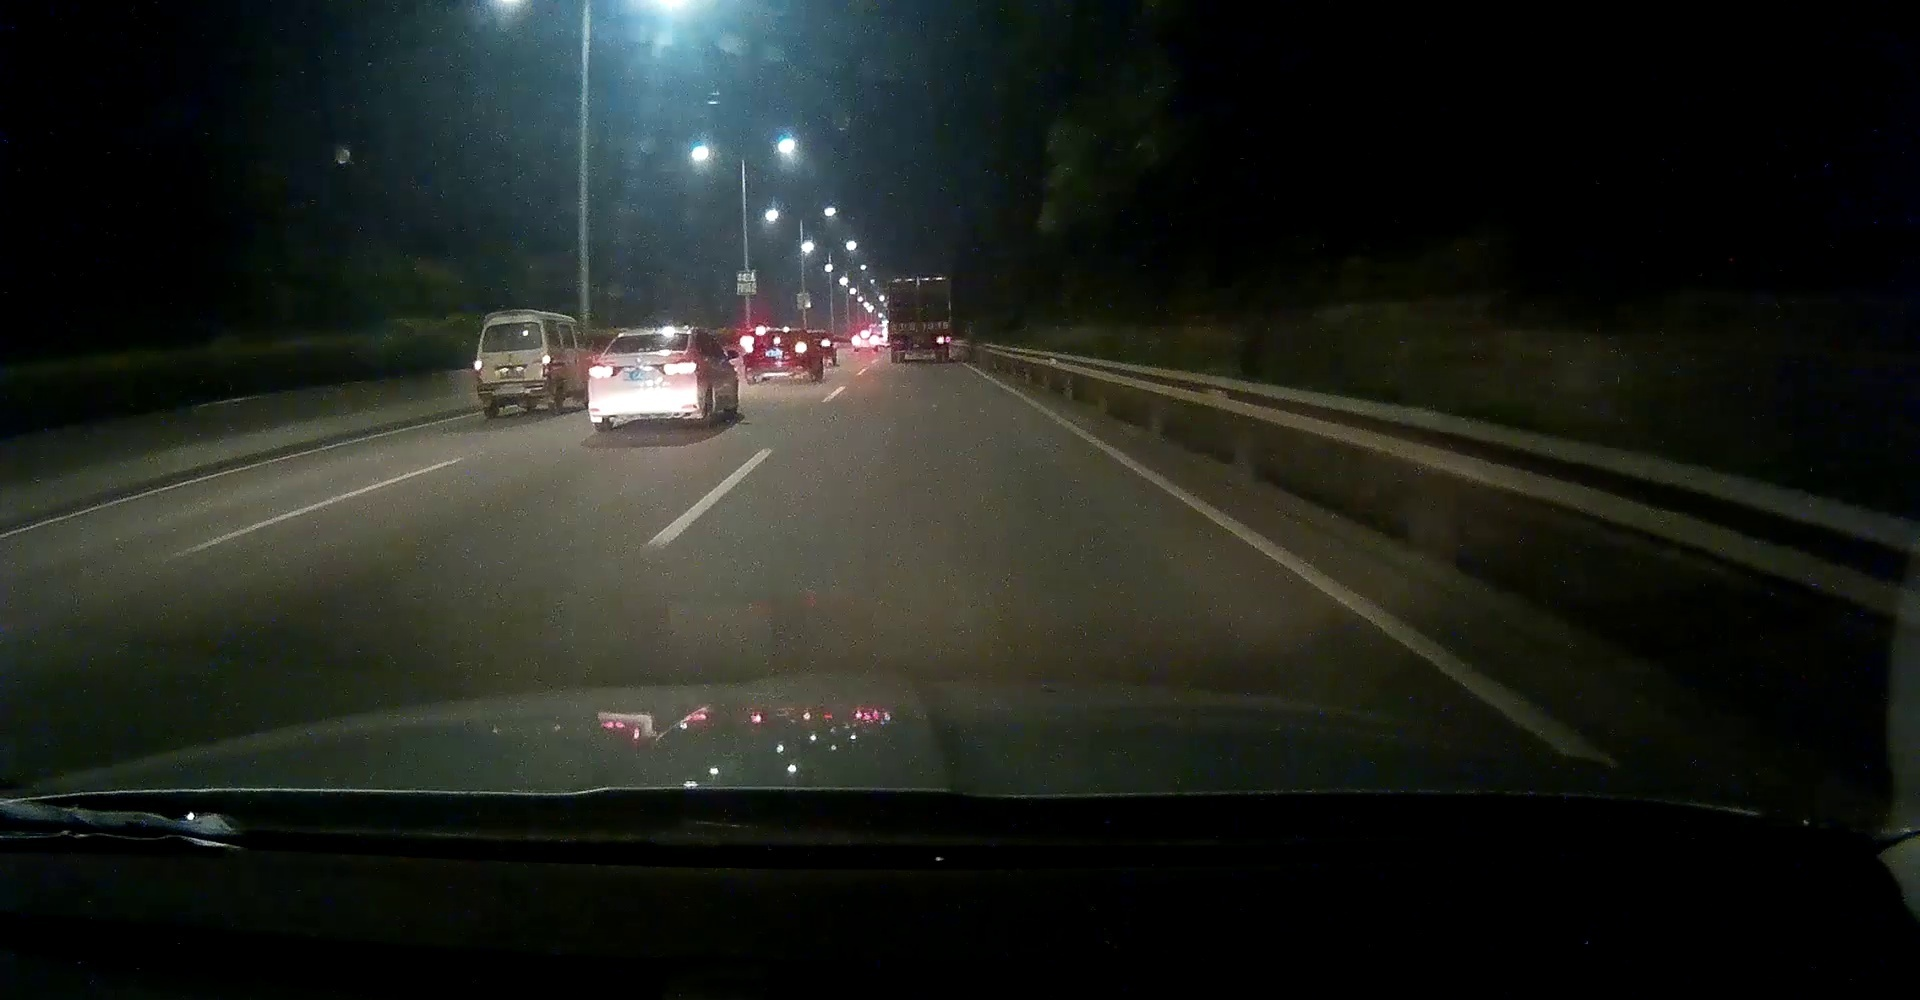L_light: (588, 365, 623, 377), (745, 345, 754, 353), (891, 338, 903, 343), (477, 360, 483, 371)
R_light: (653, 362, 696, 374), (937, 336, 950, 343), (796, 345, 805, 353), (542, 357, 550, 364)
T_light: (643, 335, 658, 338), (507, 324, 517, 326), (914, 280, 924, 283), (773, 332, 783, 335)
night-no: (588, 330, 698, 434), (476, 310, 550, 418), (745, 329, 810, 385)
night-right: (888, 274, 952, 364)
